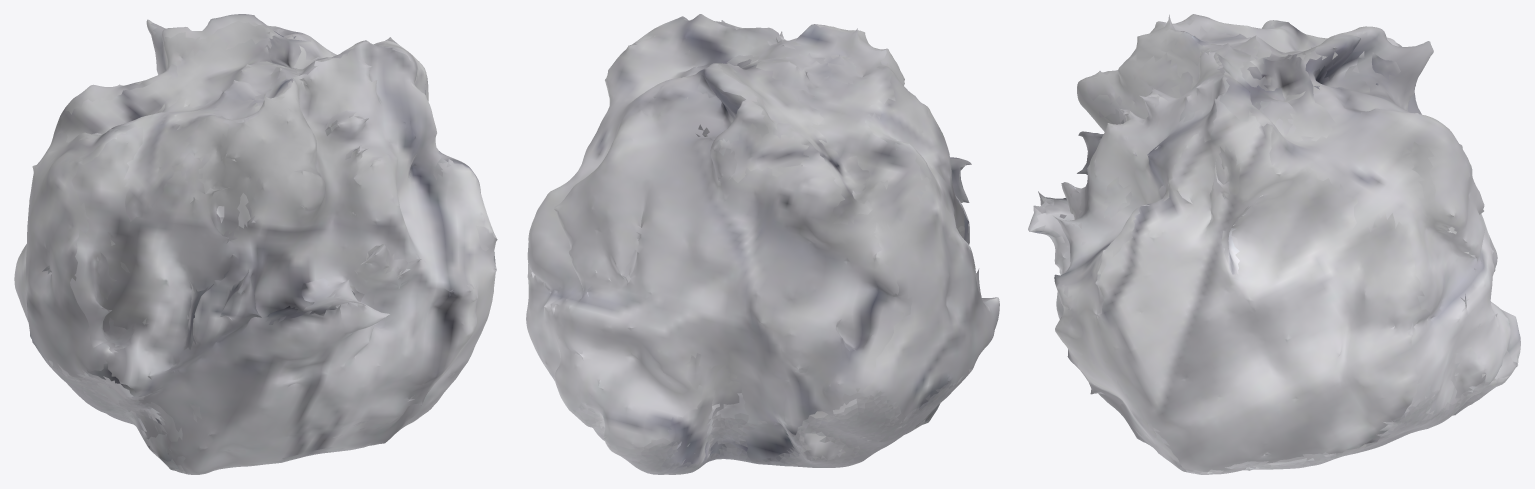
The model's file is paper_single2.glb.
The picture shows the model from 3 angles, left to right: view 1: azimuth 30°, elevation 25°; view 2: azimuth 150°, elevation 25°; view 3: azimuth 270°, elevation 25°; orthographic projection. The views are drawn at different scales.
Parts seen in each view (by area): view 1: Object_2; view 2: Object_2; view 3: Object_2.
Part boxes in pixels (x1,y1,x2,y2): Object_2: [14, 14, 497, 474]; Object_2: [526, 14, 999, 474]; Object_2: [1028, 14, 1520, 474].
Size of the model in its own units: 33.7 by 31.35 by 36.83.
Materials: 1 (1 with a texture image).
